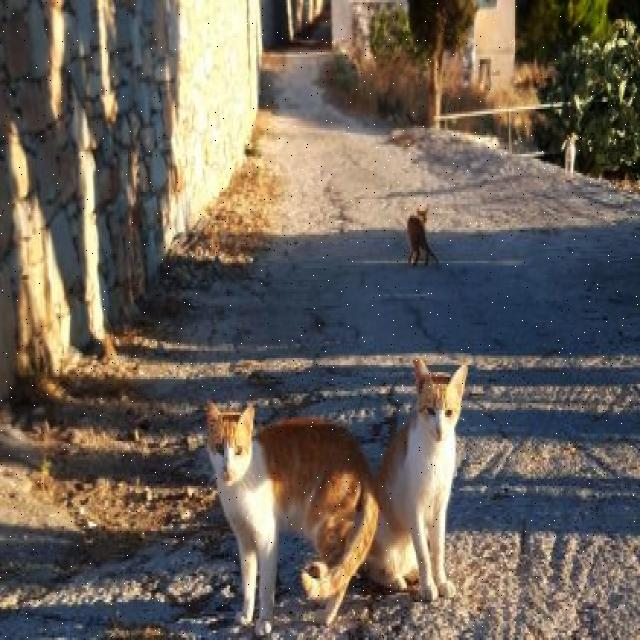cat: (208, 403, 379, 635), (365, 358, 468, 600), (408, 207, 439, 263), (565, 134, 574, 180)
